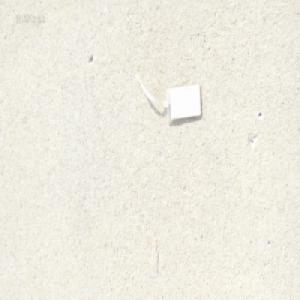LuggageTag: (132, 66, 201, 123)
